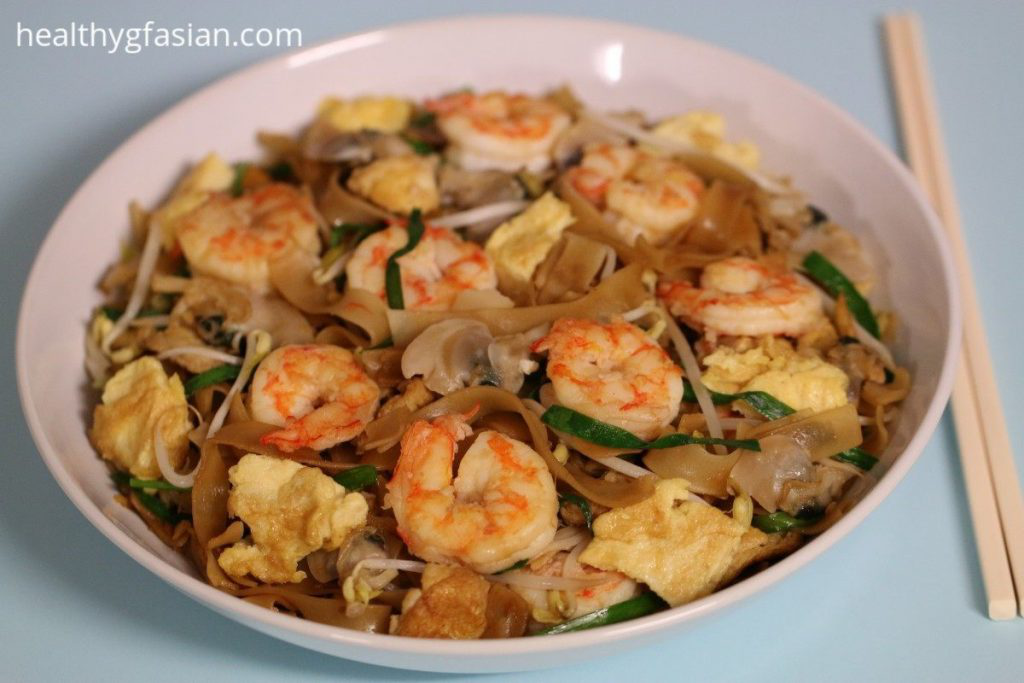Char Kway Teow: (134, 73, 895, 618)
